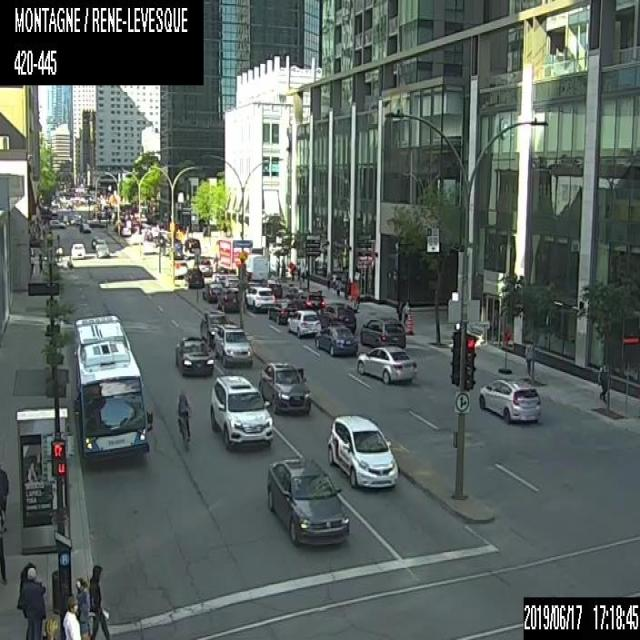bus: (72, 312, 154, 461)
construction: (499, 327, 510, 373), (350, 282, 358, 310), (406, 314, 413, 334)
cyclist: (174, 391, 190, 449)
pedestrian: (15, 558, 46, 639), (87, 561, 109, 639), (74, 574, 89, 639), (63, 590, 80, 638), (0, 508, 9, 587), (596, 363, 608, 404), (521, 338, 534, 373), (0, 466, 7, 530), (331, 275, 342, 297), (36, 251, 44, 277), (403, 300, 411, 324), (396, 298, 403, 320)
vehicle: (264, 453, 350, 547), (324, 412, 401, 488), (207, 372, 273, 452), (476, 373, 542, 423), (257, 359, 311, 414), (357, 343, 418, 384), (213, 323, 253, 367), (359, 315, 407, 349), (175, 336, 212, 374), (214, 238, 252, 274), (314, 325, 358, 356), (317, 301, 356, 332), (199, 309, 229, 344), (287, 309, 321, 336), (244, 285, 274, 312), (268, 298, 299, 323), (217, 286, 243, 312), (244, 252, 268, 280), (298, 292, 324, 308), (202, 282, 223, 301), (192, 257, 212, 275), (186, 268, 204, 287), (68, 240, 86, 257), (172, 260, 187, 279), (184, 236, 200, 252), (94, 242, 110, 258), (46, 217, 66, 228), (91, 232, 105, 247), (77, 219, 91, 233), (172, 241, 182, 258), (120, 226, 130, 236), (143, 229, 152, 239)
